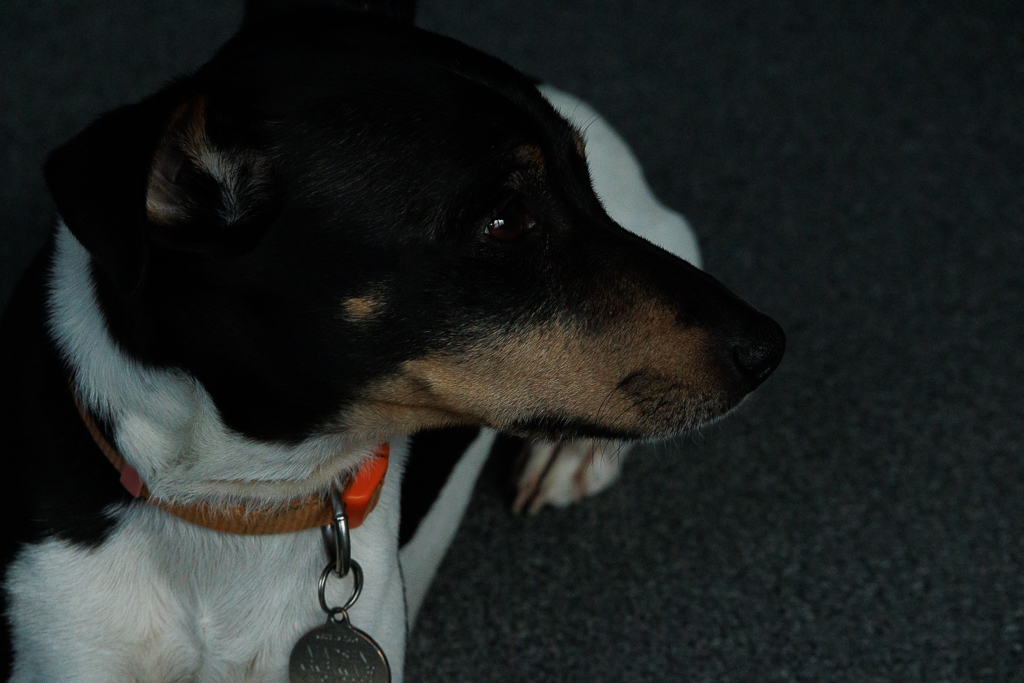Dog: (0, 0, 806, 683)
